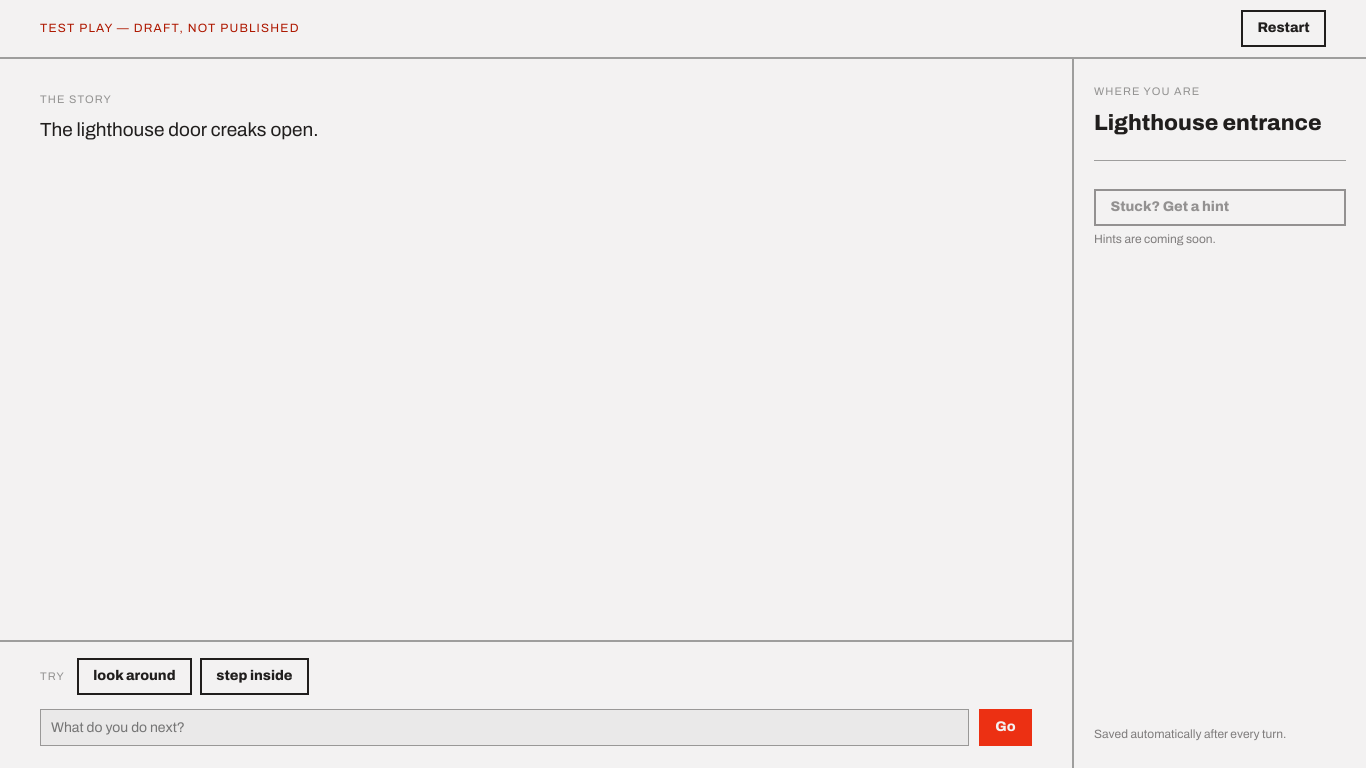
Test: AdminStoryTestPlayPage (010-story-test-play-done) › submitting an instruction renders the next turn
This screenshot has width=1366, height=768.
Expected: the text "The lighthouse door creaks open." is shown, [40,119,318,140]
Type "step inside" into the field labelled "What do you do next?" at point(504, 728), box [40,709,969,746]
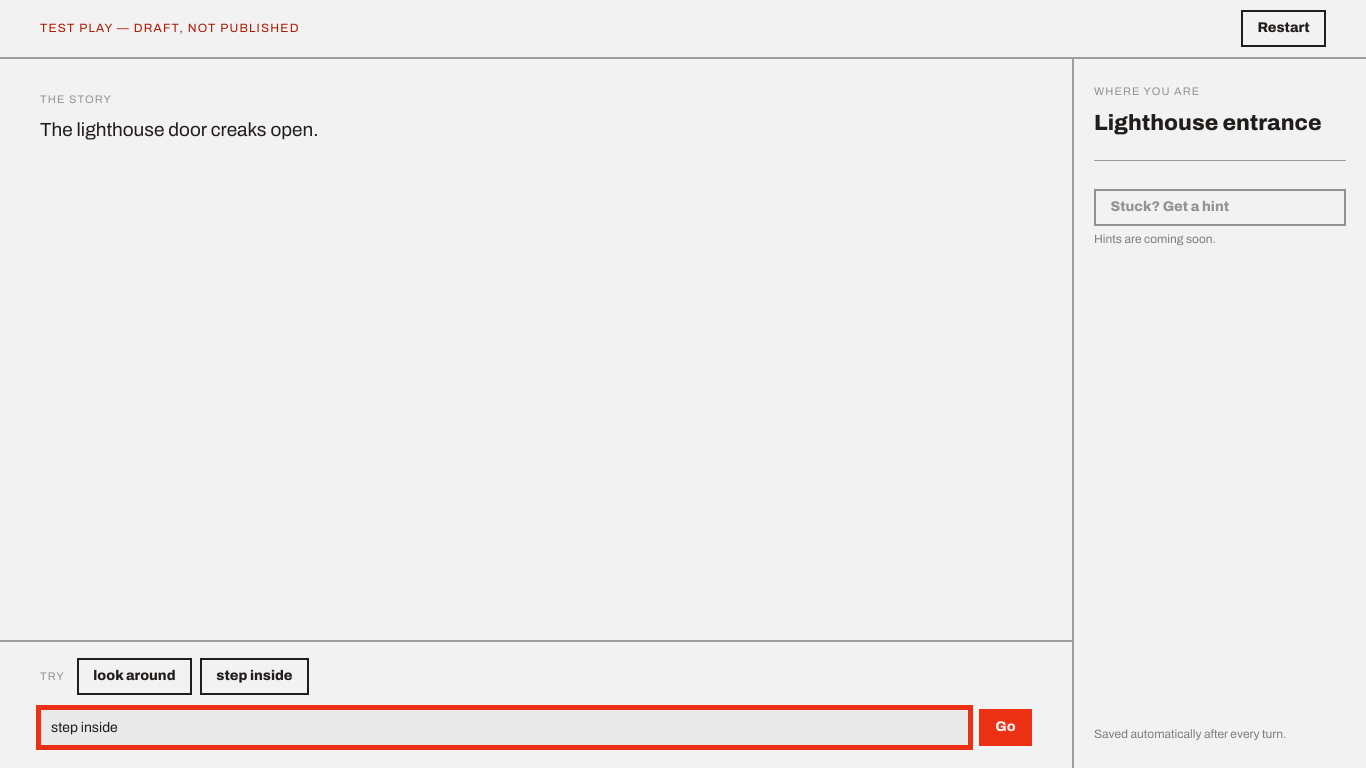
Click the button "Go" at point(1005, 728), box [979,709,1032,746]
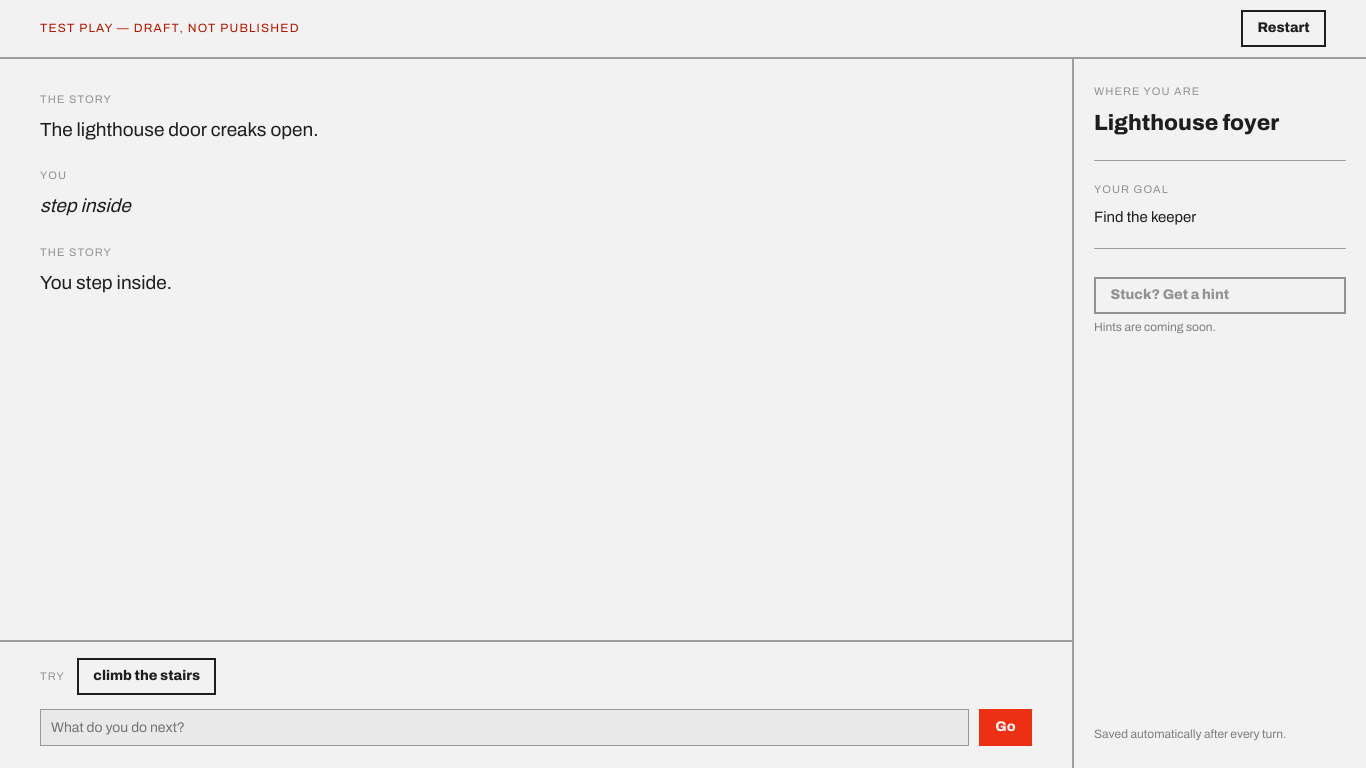
Expected: the text "You step inside." is shown, [40,272,172,293]
